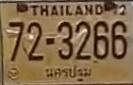2: (75, 20, 90, 59), (27, 22, 42, 60)
3: (57, 21, 72, 59)
6: (110, 20, 126, 58), (93, 20, 108, 58)
7: (8, 21, 24, 61)
NPT: (44, 63, 95, 84)
